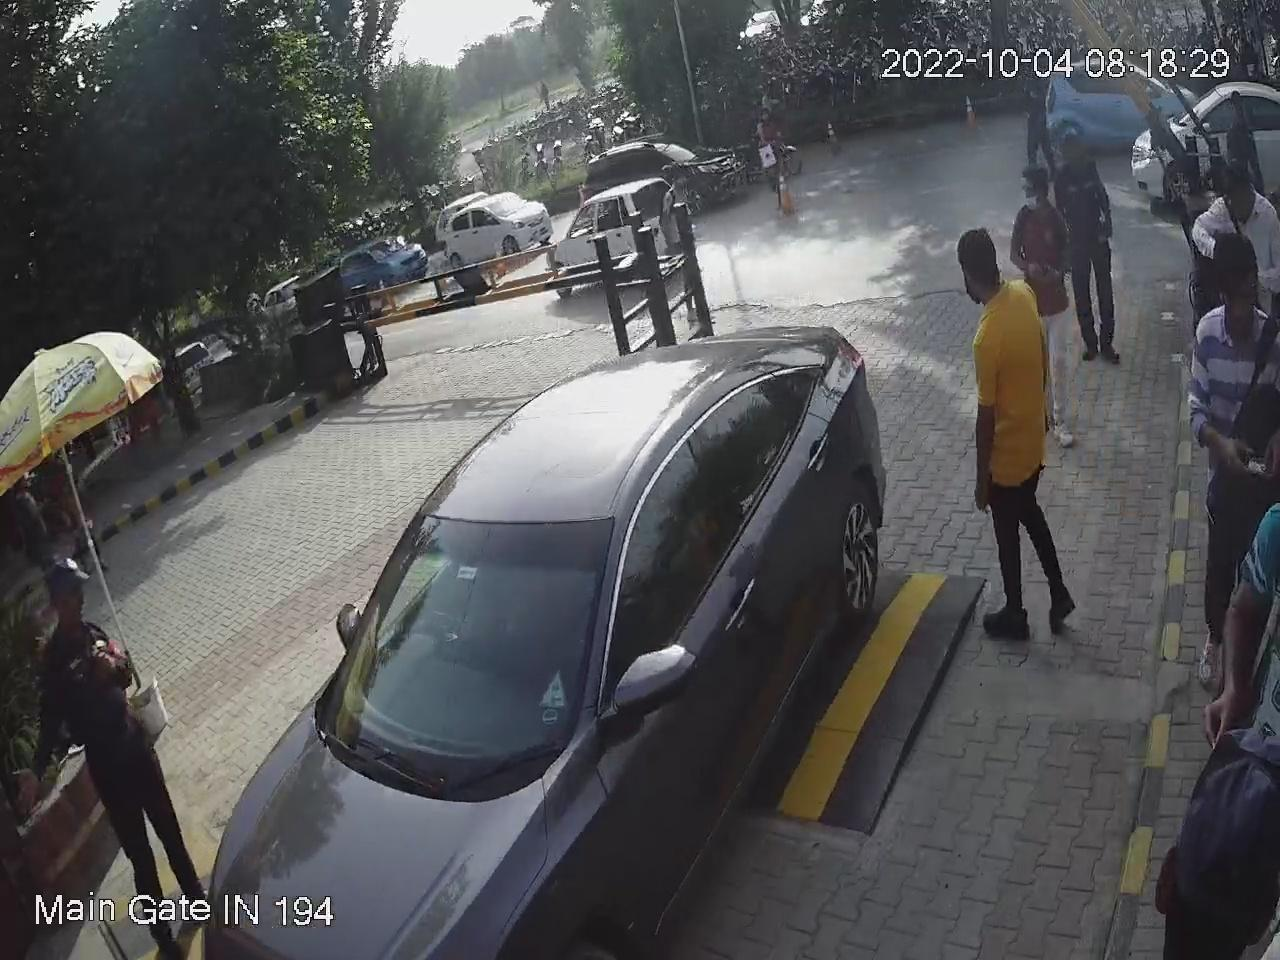windshield: (333, 505, 623, 762)
